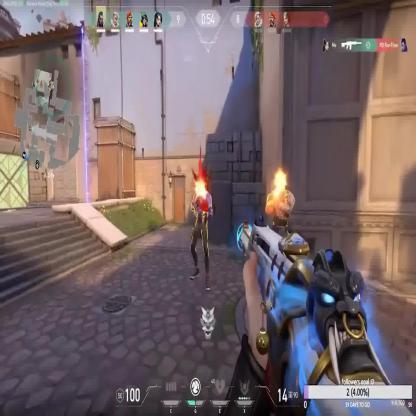enemy: (266, 172, 295, 297)
enemy_head: (274, 170, 286, 192)
